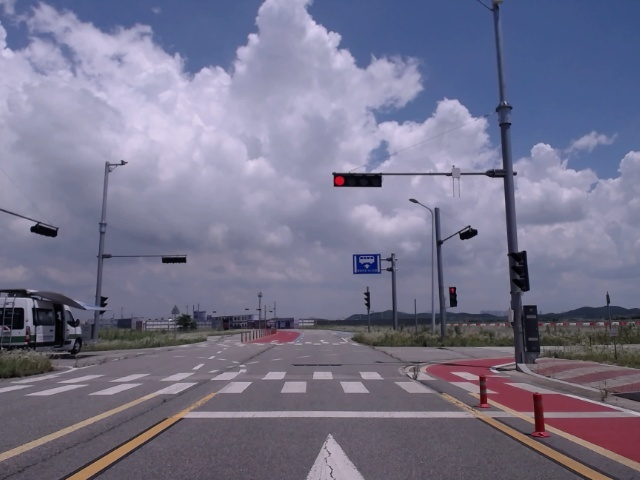red_4: (334, 175, 382, 187)
